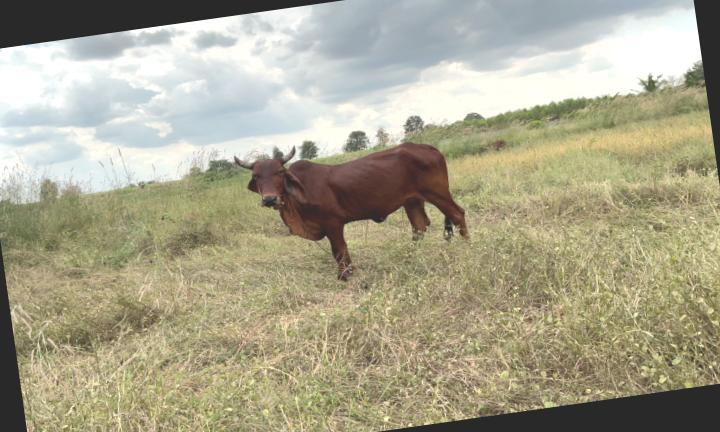Brahman: (234, 142, 468, 279)
